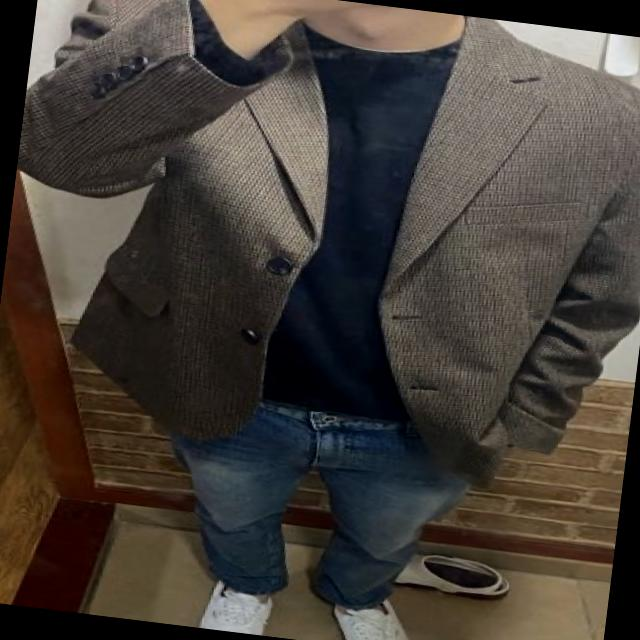blazer: (0, 0, 640, 507)
denimpants: (143, 375, 478, 616)
